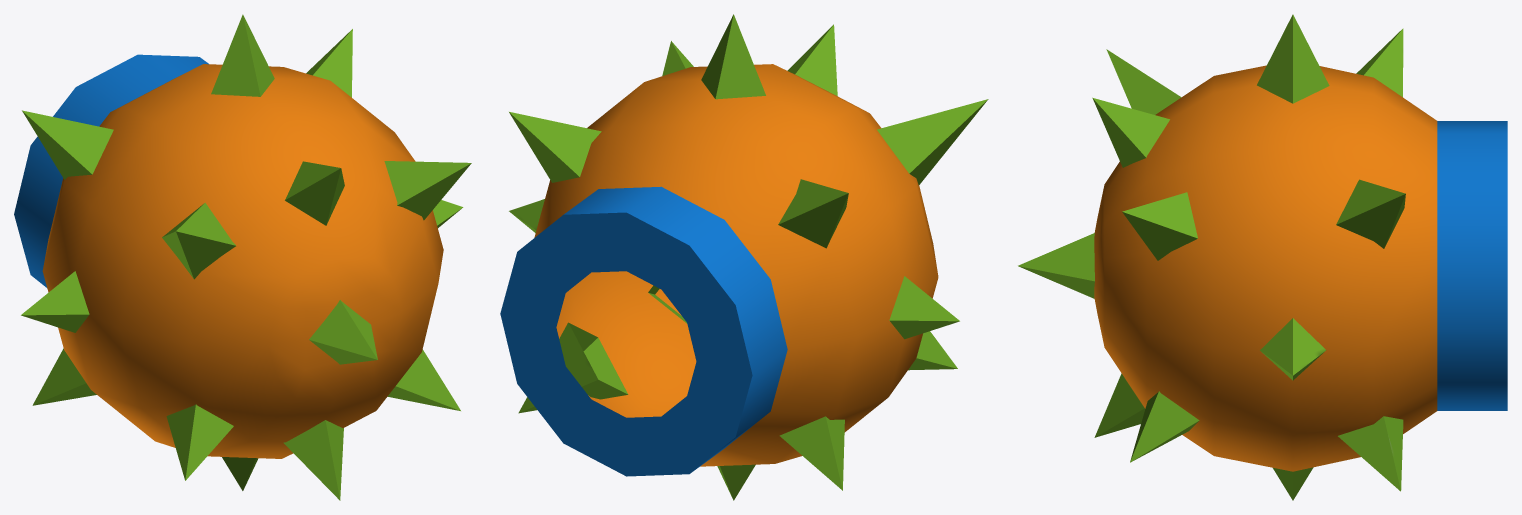
The model's file is Glove04_R.fbx.
3 views of the same model, side by side, from view 1: azimuth 30°, elevation 25°; view 2: azimuth 150°, elevation 25°; view 3: azimuth 270°, elevation 25° (orthographic).
Parts seen in each view (by area): view 1: Glove04_R; view 2: Glove04_R; view 3: Glove04_R.
Boxes of the visible parts, box(x1,y1,x2,y2) form: Glove04_R: box(14, 14, 471, 500); Glove04_R: box(500, 14, 988, 500); Glove04_R: box(1018, 14, 1507, 500).
Size of the model in its own units: 74.09 by 76.32 by 69.61.
Materials: 1 (1 with a texture image).
